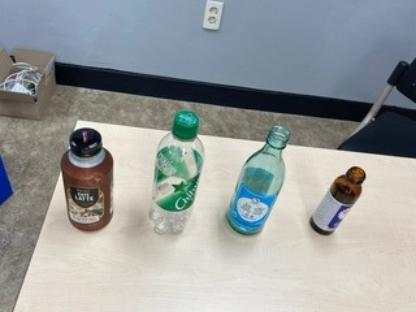Glass Bottle: (226, 120, 288, 242)
Others: (58, 128, 119, 236), (308, 164, 368, 238)
Plastic Bottle: (146, 110, 206, 242)
